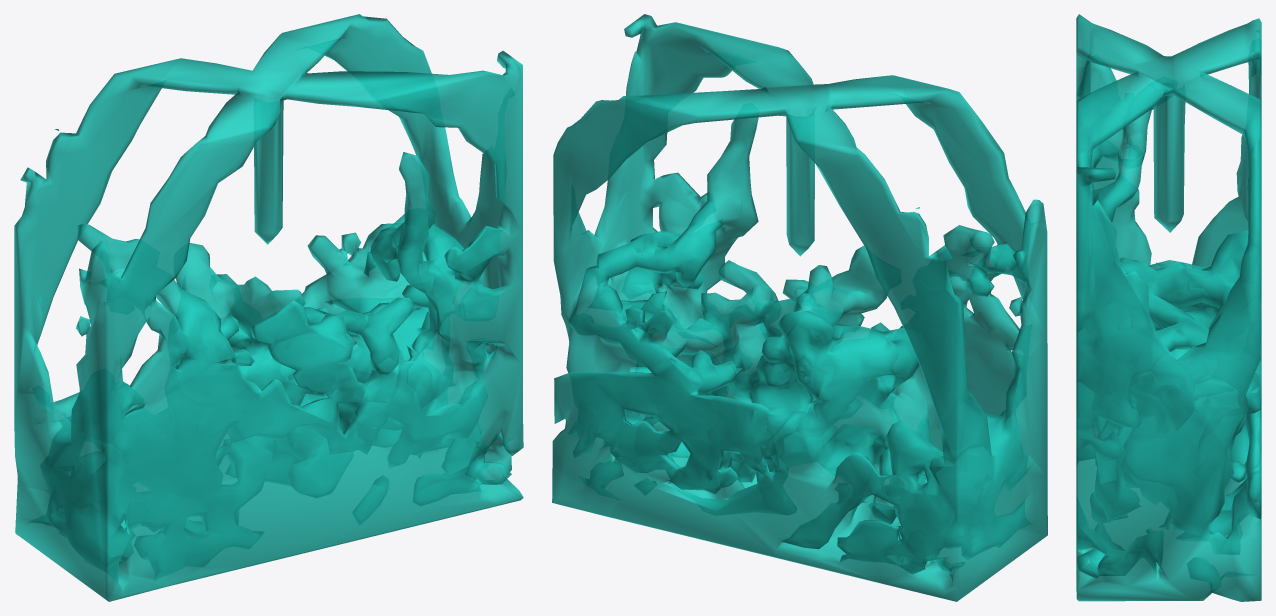
3 views of the same model, side by side, from view 1: azimuth 30°, elevation 25°; view 2: azimuth 150°, elevation 25°; view 3: azimuth 270°, elevation 25° (orthographic). The views are drawn at different scales.
Visible parts, largest first — view 1: Liquid_Domain; view 2: Liquid_Domain; view 3: Liquid_Domain.
Boxes of the visible parts, x1=… form: Liquid_Domain: x1=14, y1=14, x2=523, y2=601; Liquid_Domain: x1=552, y1=14, x2=1047, y2=601; Liquid_Domain: x1=1076, y1=14, x2=1261, y2=601.
Bounding box in the file's own units: 1965 × 1965 × 766.
